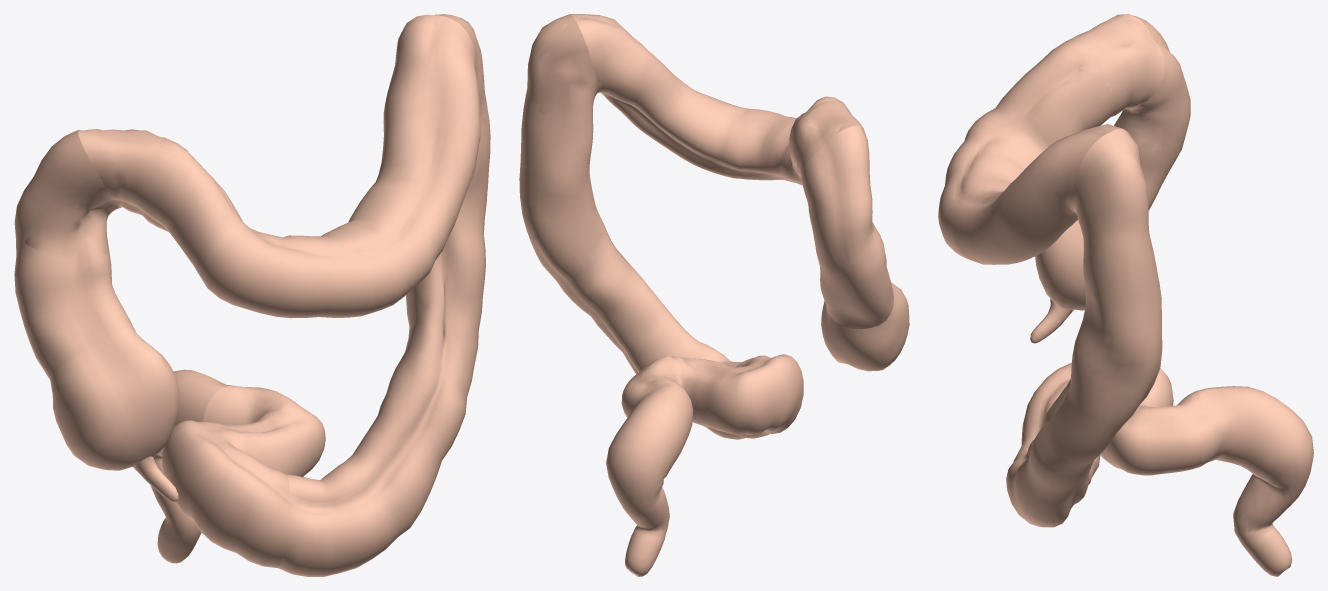
Rendered from gut_large.glb.
3 views of the same model, side by side, from view 1: azimuth 30°, elevation 25°; view 2: azimuth 150°, elevation 25°; view 3: azimuth 270°, elevation 25° (orthographic). The views are drawn at different scales.
Visible parts, largest first — view 1: VH_F_hepatic_flexure_of_colon; view 2: VH_F_hepatic_flexure_of_colon; view 3: VH_F_hepatic_flexure_of_colon.
Boxes of the visible parts, x1,y1,x2,y2 form: VH_F_hepatic_flexure_of_colon: (14, 14, 490, 576); VH_F_hepatic_flexure_of_colon: (519, 14, 909, 576); VH_F_hepatic_flexure_of_colon: (938, 14, 1313, 576).
Bounding box in the file's own units: 0.2433 × 0.2949 × 0.1934.
